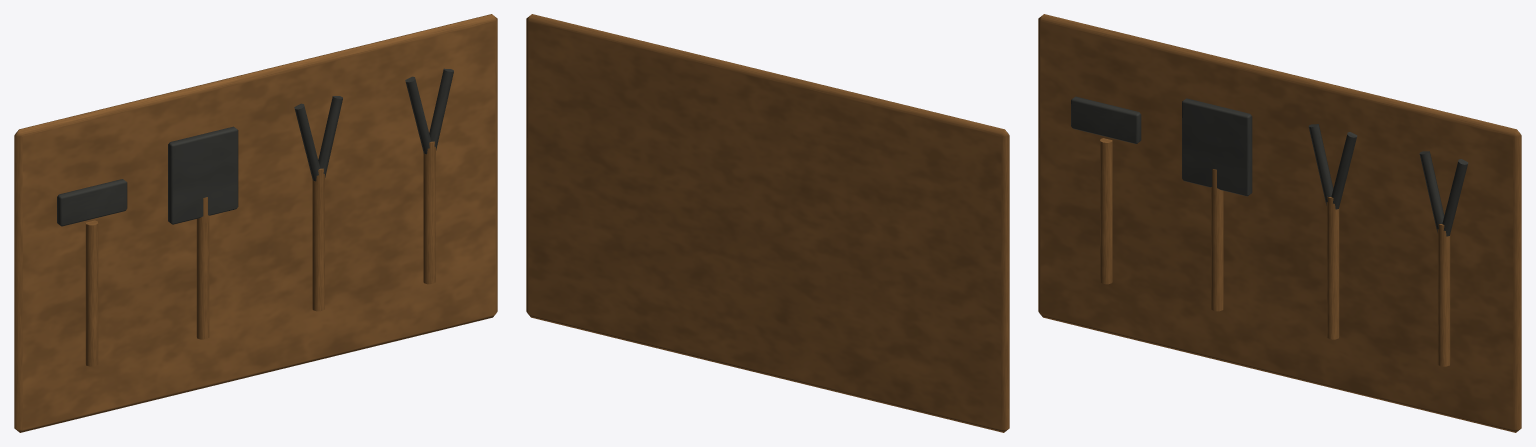
The model's file is Furn_DecorToolRack.fbx.
The picture shows the model from 3 angles, left to right: view 1: azimuth 30°, elevation 25°; view 2: azimuth 150°, elevation 25°; view 3: azimuth 330°, elevation 25°; orthographic projection.
Visible parts, largest first — view 1: Furn_DecorToolRack_Mesh; view 2: Furn_DecorToolRack_Mesh; view 3: Furn_DecorToolRack_Mesh.
Part boxes in pixels (box(x1,y1,x2,y2)): Furn_DecorToolRack_Mesh: box(14, 14, 497, 432); Furn_DecorToolRack_Mesh: box(526, 14, 1009, 432); Furn_DecorToolRack_Mesh: box(1038, 14, 1521, 432).
Bounding box in the file's own units: 1 × 0.6 × 0.04.
2 materials, 2 textured.
